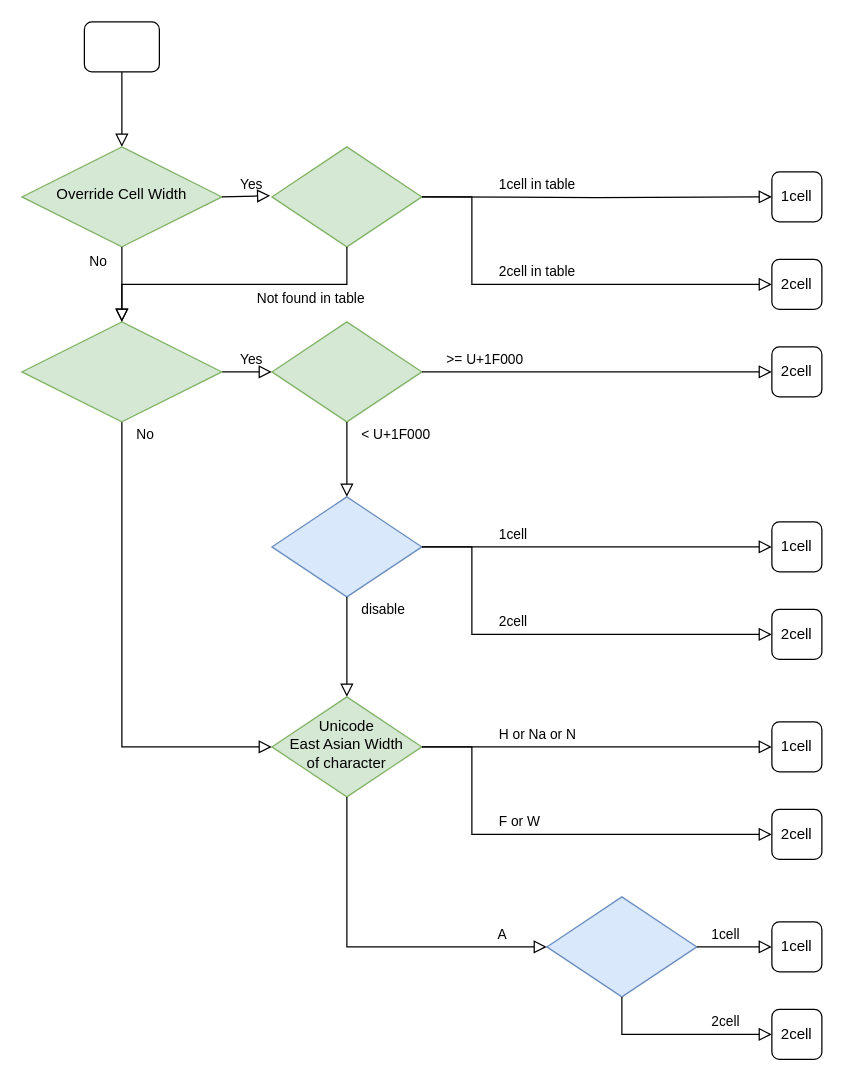
The diagram is 844 pixels wide and 1081 high, and some of its shapes have lost their labels. The shapes that lost their labels are listed below. From the top down, each one's centre as x and y in pixels, then its label:
At (121,46): "Start".
At (346,196): "Check table".
At (121,371): "Character has Extended_Pictographic attribute".
At (346,371): "Code point of c haracter".
At (346,546): "Setting: Override Emoji characters width".
At (621,946): "Setting: Ambiguous Characters width".
